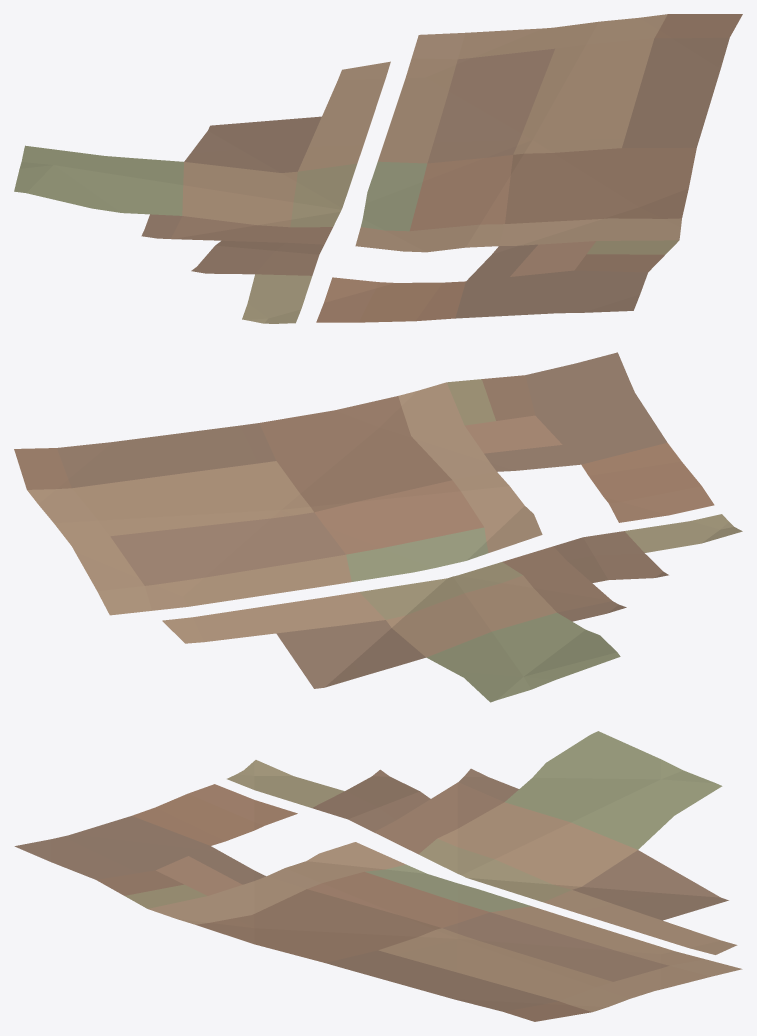
Rendered from farm_0_-1_soil.glb.
3 renders of one model, top to bottom at view 1: azimuth 30°, elevation 25°; view 2: azimuth 150°, elevation 25°; view 3: azimuth 270°, elevation 25°, orthographic. The views are drawn at different scales.
Parts seen in each view (by area): view 1: geometry_0; view 2: geometry_0; view 3: geometry_0.
Part boxes in pixels (<box>): geometry_0: <box>14,14,742,323</box>; geometry_0: <box>14,352,742,702</box>; geometry_0: <box>14,731,742,1021</box>.
Size of the model in its own units: 299 by 33.73 by 287.
